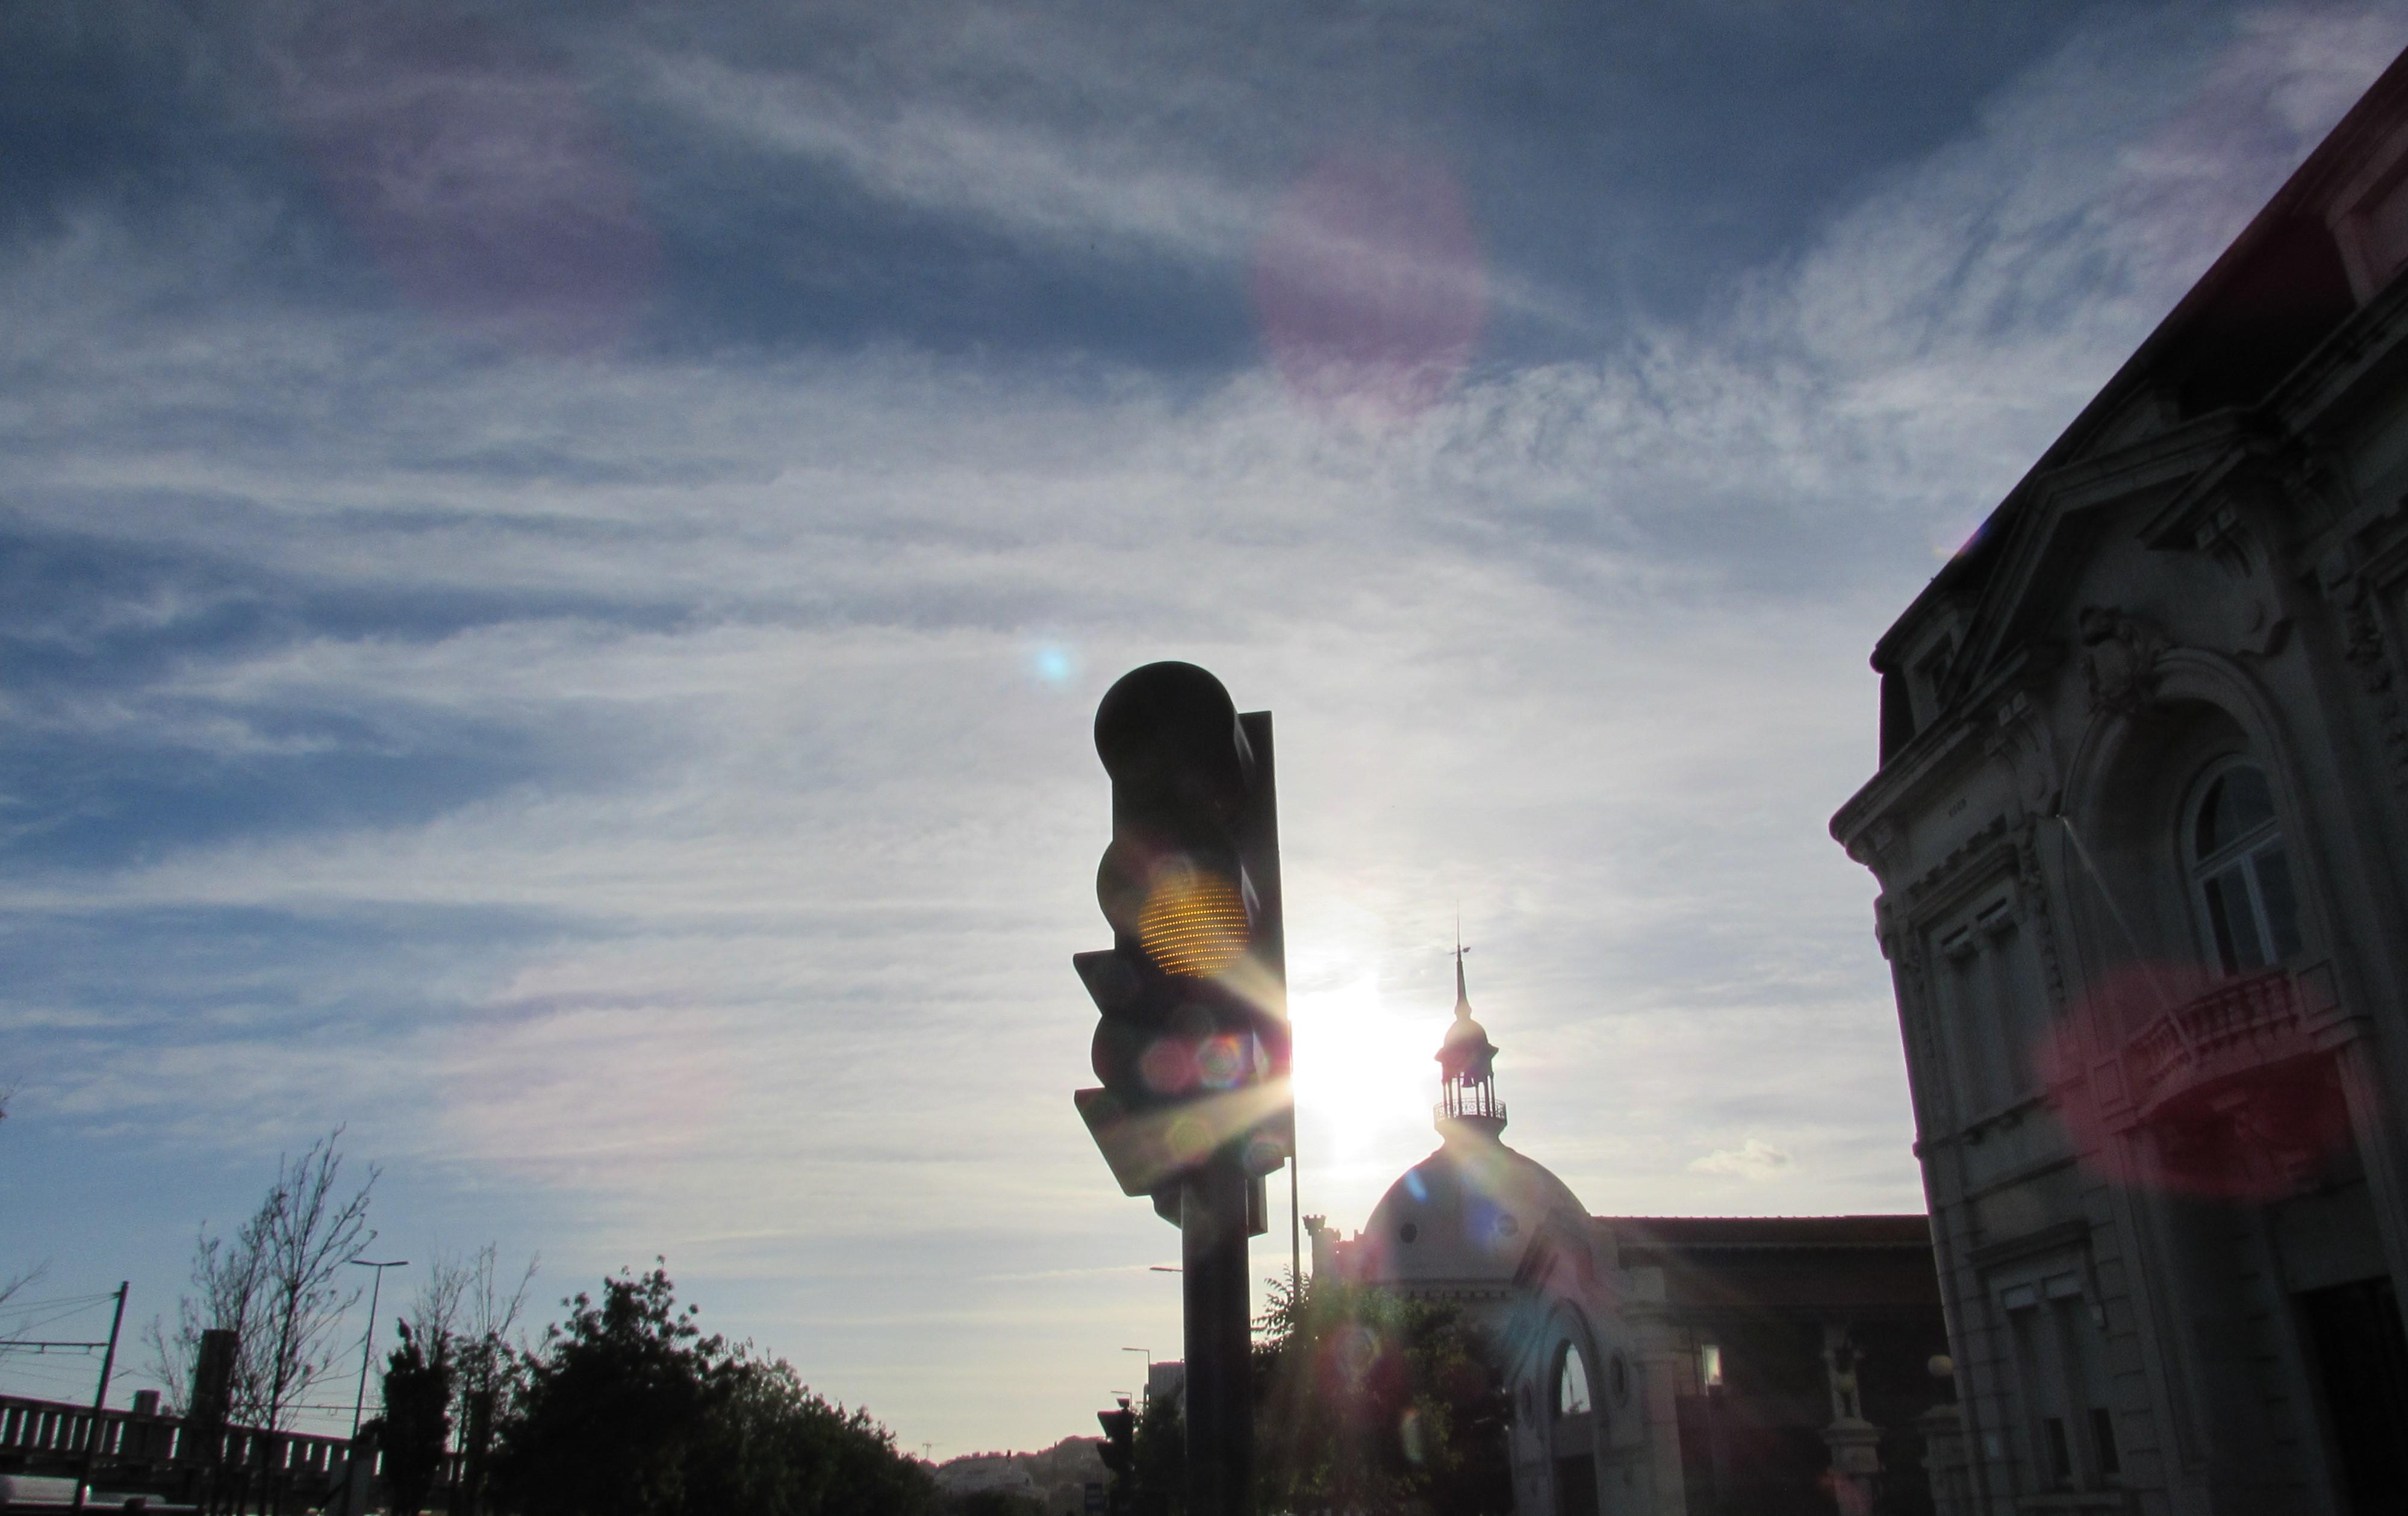yellow_light: (1093, 660, 1290, 1149)
